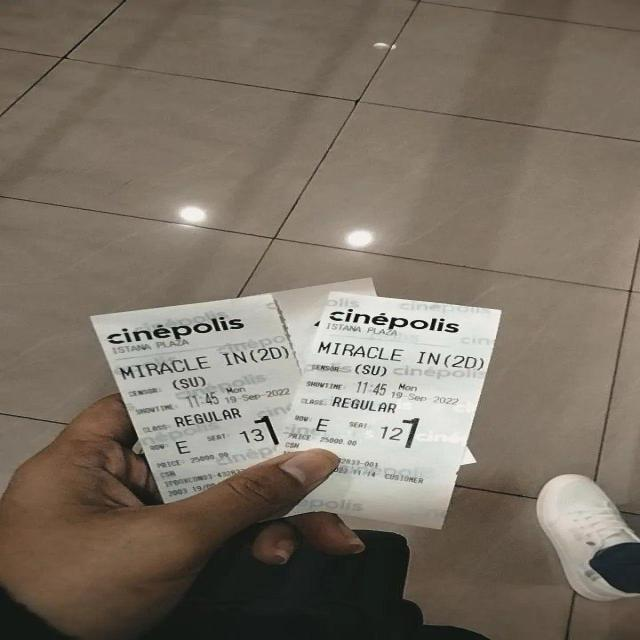date: (348, 378, 474, 406)
store: (327, 308, 472, 336)
total: (282, 431, 386, 450)
